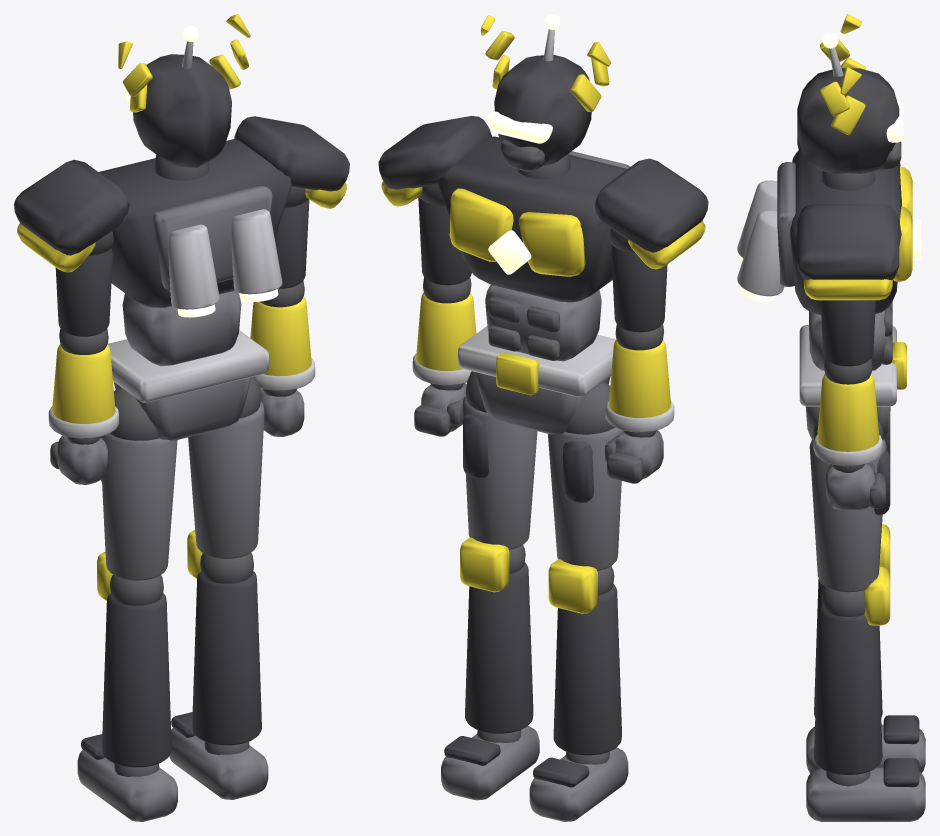
The model's file is volt.glb.
3 renders of one model, left to right at view 1: azimuth 30°, elevation 25°; view 2: azimuth 150°, elevation 25°; view 3: azimuth 270°, elevation 25°, orthographic. The views are drawn at different scales.
Parts seen in each view (by area): view 1: chest, upper_arm_l, shin_l, shin_r, head, thigh_l, hips, thigh_r, upper_arm_r, lower_arm_l, abdomen, lower_arm_r (+4 smaller); view 2: chest, shin_l, upper_arm_l, shin_r, head, thigh_l, hips, thigh_r, upper_arm_r, abdomen, lower_arm_l, foot_l (+4 smaller); view 3: chest, upper_arm_r, shin_r, head, thigh_r, foot_r, lower_arm_r, hips, hand_r, foot_l, abdomen, shin_l.
Boxes of the visible parts, bbox=[...] form: chest: bbox=[98, 139, 291, 317]; upper_arm_l: bbox=[14, 160, 129, 336]; shin_l: bbox=[97, 552, 171, 767]; shin_r: bbox=[187, 530, 261, 745]; head: bbox=[118, 14, 250, 167]; thigh_l: bbox=[101, 387, 177, 580]; hips: bbox=[108, 330, 268, 440]; thigh_r: bbox=[188, 376, 264, 558]; upper_arm_r: bbox=[234, 116, 349, 288]; lower_arm_l: bbox=[48, 328, 118, 438]; abdomen: bbox=[122, 290, 241, 366]; lower_arm_r: bbox=[250, 280, 315, 390]; chest: bbox=[438, 136, 630, 302]; shin_l: bbox=[548, 559, 621, 755]; upper_arm_l: bbox=[594, 158, 708, 332]; shin_r: bbox=[460, 537, 533, 733]; head: bbox=[481, 14, 610, 171]; thigh_l: bbox=[548, 382, 623, 570]; hips: bbox=[458, 326, 616, 434]; thigh_r: bbox=[462, 371, 537, 549]; upper_arm_r: bbox=[378, 116, 491, 285]; abdomen: bbox=[485, 285, 601, 361]; lower_arm_l: bbox=[605, 324, 674, 432]; foot_l: bbox=[529, 747, 628, 821]; chest: bbox=[737, 148, 921, 314]; upper_arm_r: bbox=[797, 204, 899, 366]; shin_r: bbox=[814, 566, 890, 774]; head: bbox=[797, 14, 903, 173]; thigh_r: bbox=[809, 420, 890, 592]; foot_r: bbox=[806, 758, 925, 821]; lower_arm_r: bbox=[813, 359, 882, 466]; hips: bbox=[799, 325, 906, 439]; hand_r: bbox=[826, 463, 885, 510]; foot_l: bbox=[806, 715, 925, 773]; abdomen: bbox=[809, 301, 892, 370]; shin_l: bbox=[814, 524, 890, 717].
Size of the model in its own units: 0.758 by 1.89 by 0.4258.
